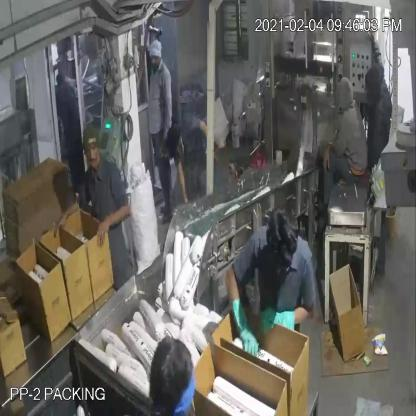glove: (218, 276, 261, 363), (251, 296, 309, 341)
no_glove: (84, 200, 136, 244), (50, 204, 86, 240), (158, 70, 176, 141), (174, 154, 192, 215), (316, 131, 336, 179)
